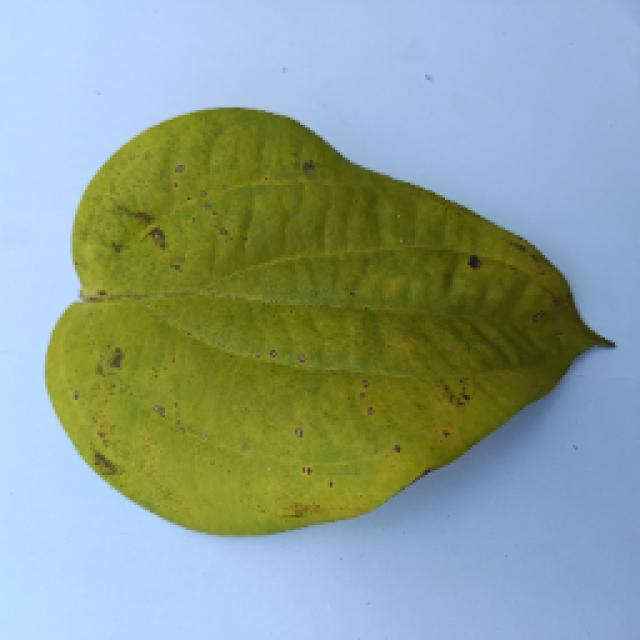slow-decline: (35, 112, 610, 540)
